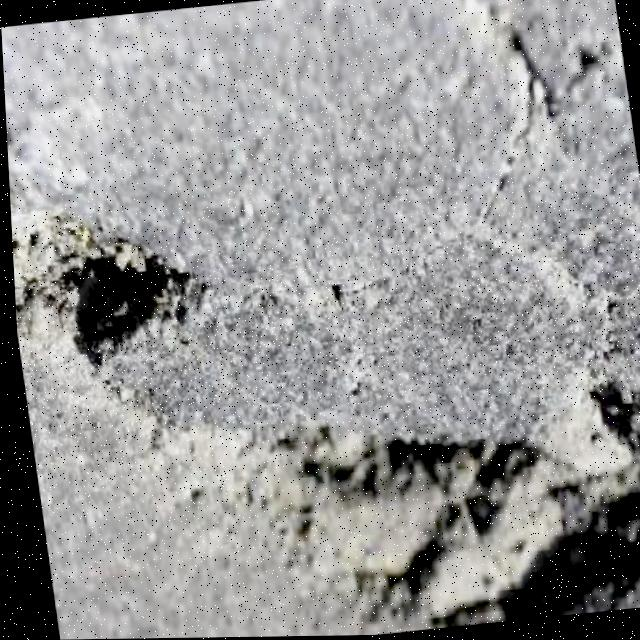Pothole: (199, 361, 640, 638), (7, 160, 212, 394)
